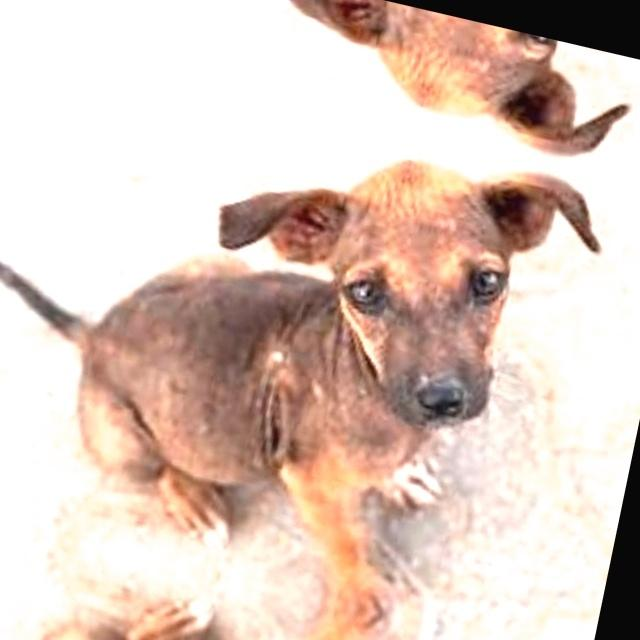dog: (0, 63, 570, 636), (59, 0, 597, 155), (0, 514, 477, 640)
